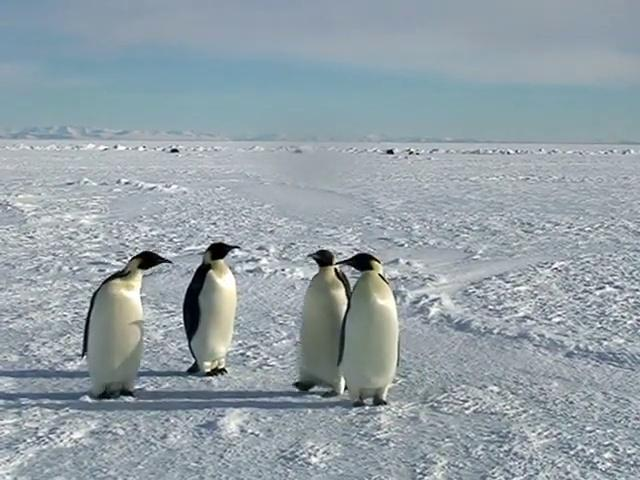animal: (340, 254, 400, 407)
